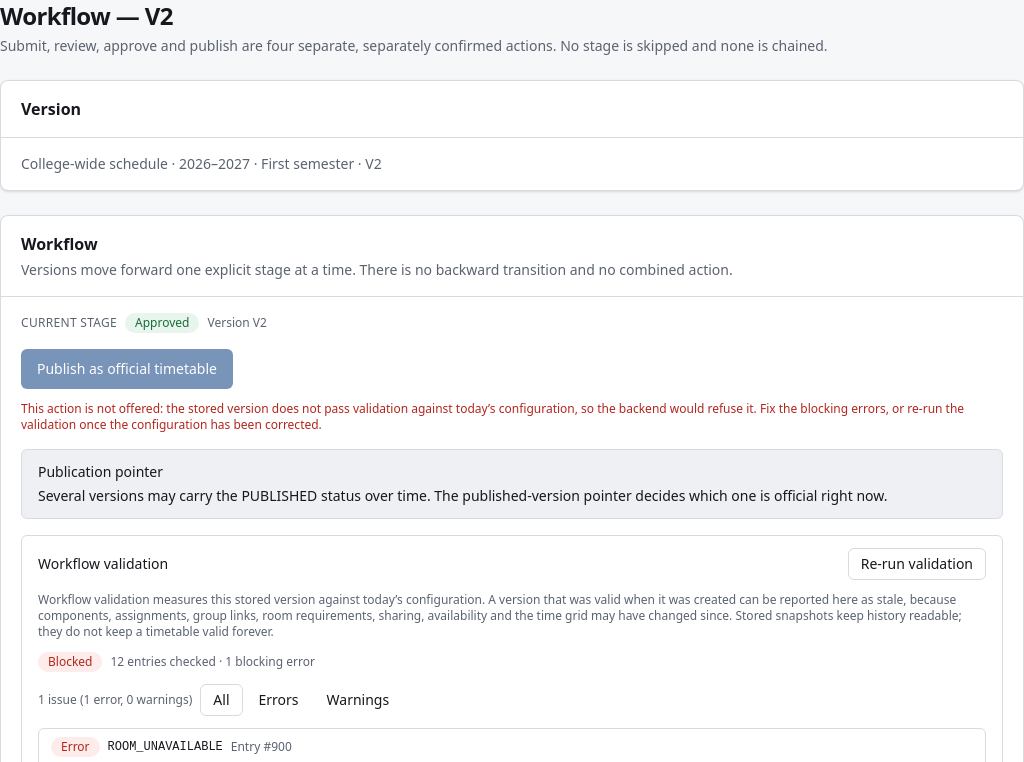
it: version workflow screen › offers the action again once a re-run confirms it can advance
The image size is (1024, 762).
Expected: the button "Publish as official timetable" is disabled, [21,349,233,389]
Click the button "Re-run validation" at point(917, 564), box [848,548,986,580]
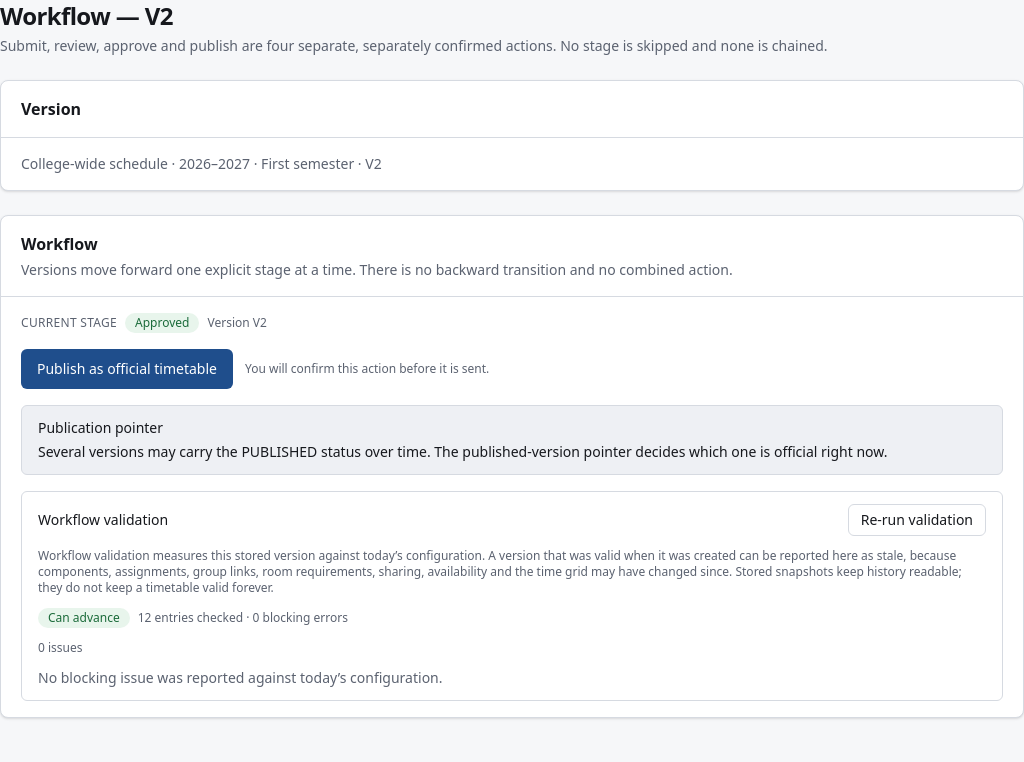
Expected: the button "Publish as official timetable" is enabled, [21,349,233,389]
Expected: the text "Can advance" is shown, [38,608,130,628]
